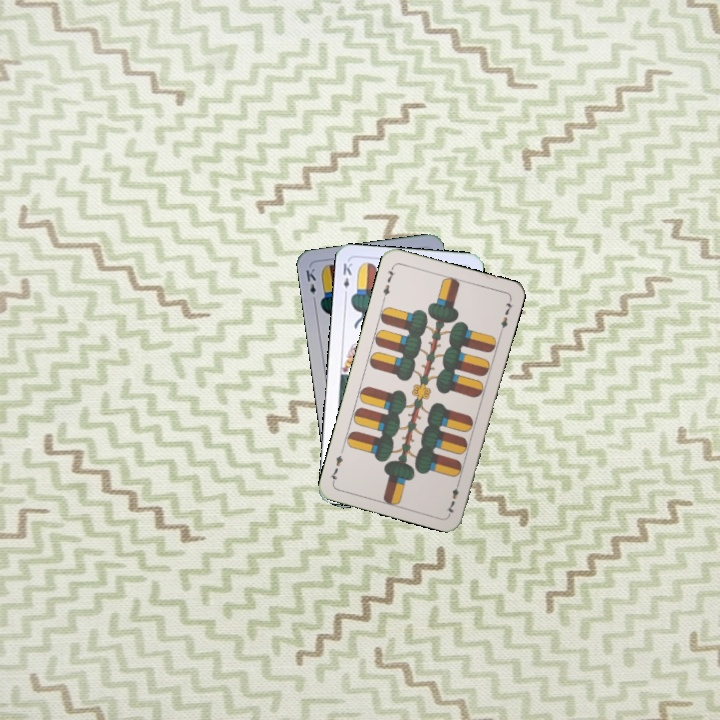E7: (442, 477, 462, 517), (379, 263, 397, 303)
EK: (302, 264, 319, 305), (339, 259, 355, 299)
